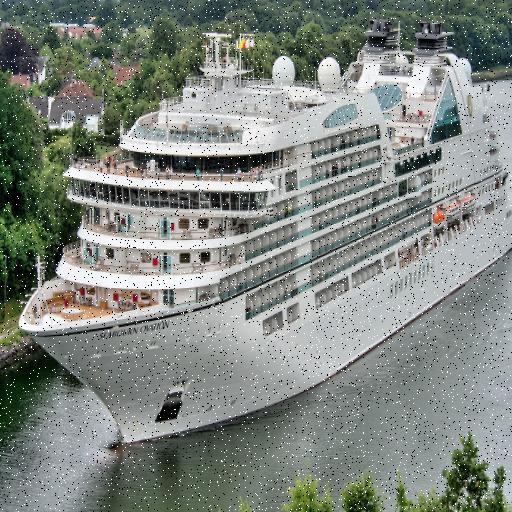cruises: (17, 15, 512, 454)
